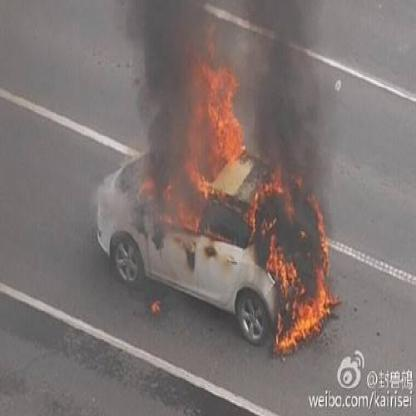fire: (136, 42, 246, 254), (252, 166, 335, 352)
